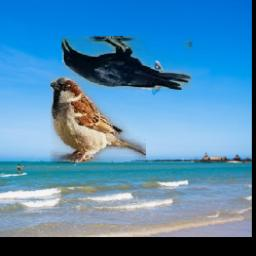Crow: (61, 37, 191, 91)
Sparrow: (49, 77, 145, 163)
